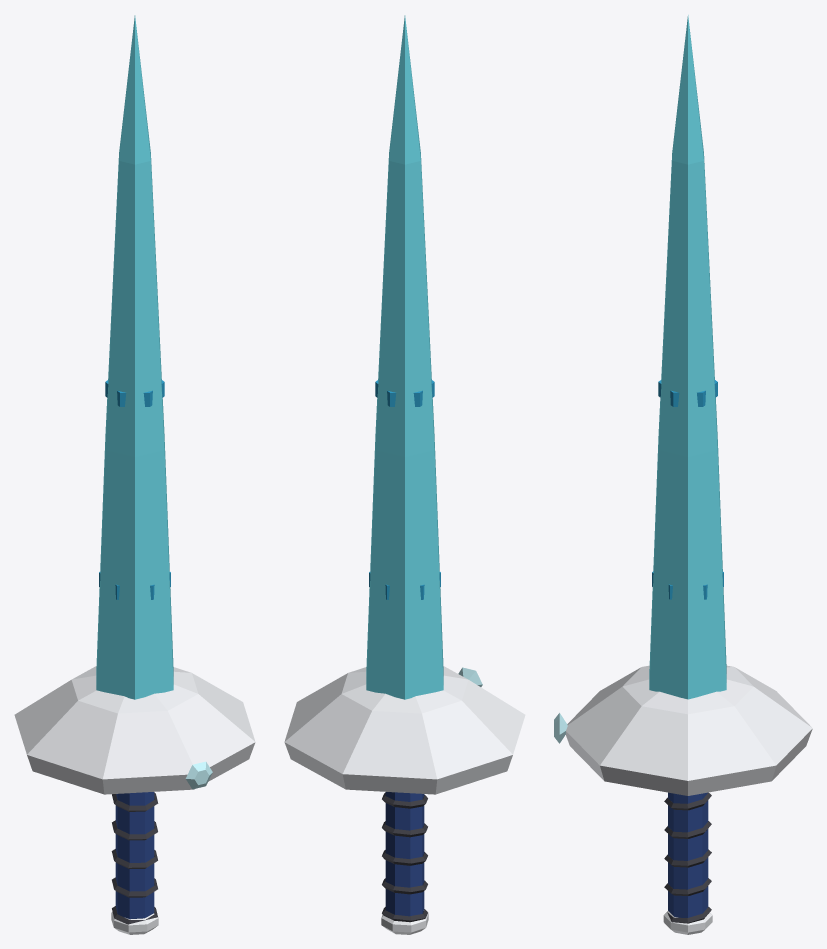
File: DiamondLance.fbx
The picture shows the model from 3 angles, left to right: view 1: azimuth 30°, elevation 25°; view 2: azimuth 150°, elevation 25°; view 3: azimuth 270°, elevation 25°; orthographic projection.
Parts seen in each view (by area): view 1: DiamondLance; view 2: DiamondLance; view 3: DiamondLance.
Part boxes in pixels (x1,y1,x2,y2): DiamondLance: (14, 15, 255, 934); DiamondLance: (284, 15, 525, 934); DiamondLance: (554, 15, 812, 934).
Bounding box in the file's own units: 1.9 × 7.67 × 1.97.
1 material, 1 textured.
